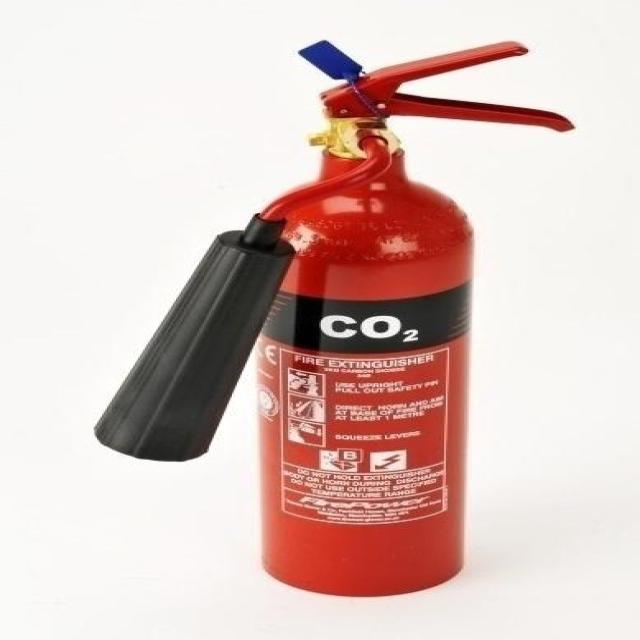fire_extinguisher: (88, 32, 582, 601)
